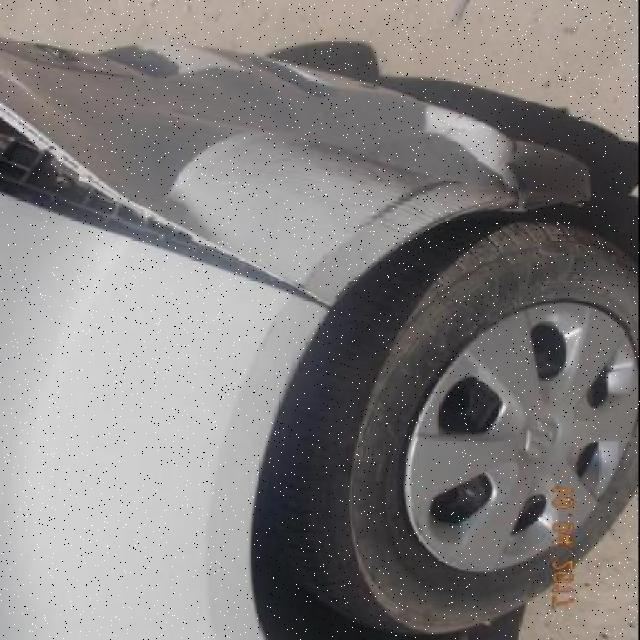damage: (0, 107, 342, 313), (142, 86, 594, 211), (344, 173, 471, 236)
